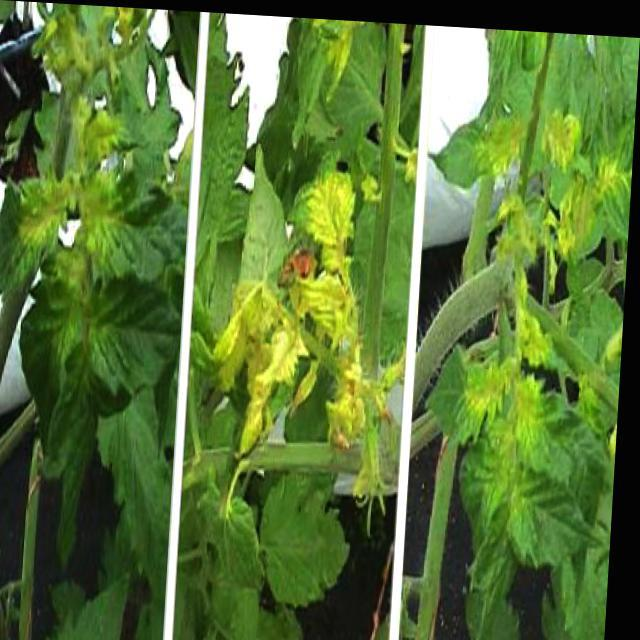Tomato healthy leaf: (67, 168, 191, 284), (516, 359, 610, 490), (0, 162, 63, 316), (430, 96, 524, 194), (430, 348, 510, 452), (286, 148, 364, 248)
